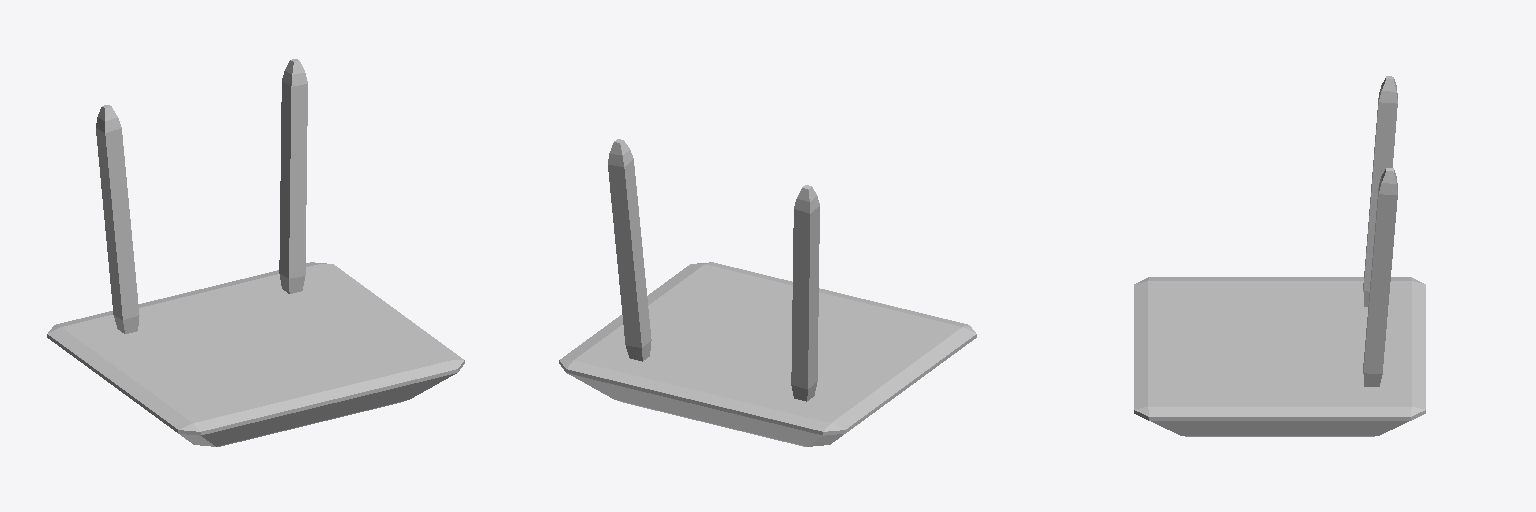
File: Router.obj
3 views of the same model, side by side, from view 1: azimuth 30°, elevation 25°; view 2: azimuth 150°, elevation 25°; view 3: azimuth 270°, elevation 25° (orthographic).
Visible parts, largest first — view 1: Router; view 2: Router; view 3: Router.
Boxes of the visible parts, <box> form: Router: <box>47,59,464,446</box>; Router: <box>559,139,976,446</box>; Router: <box>1134,76,1425,436</box>.
Bounding box in the file's own units: 0.2946 × 0.2612 × 0.2606.